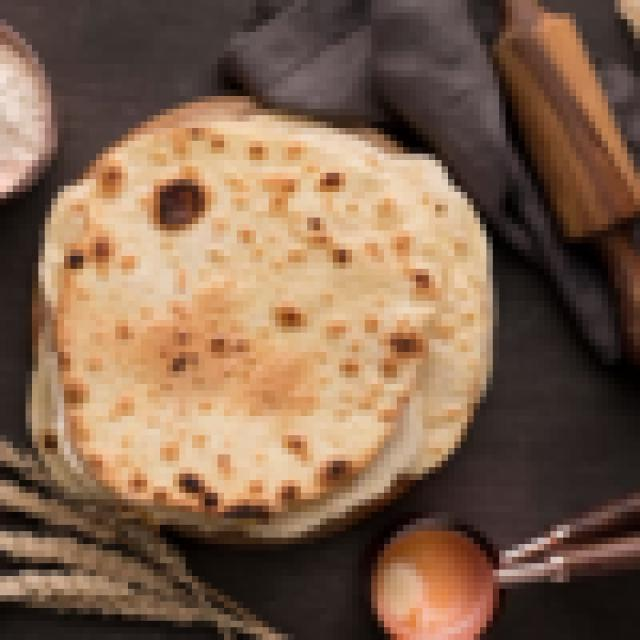ROTI: (53, 113, 511, 498)
